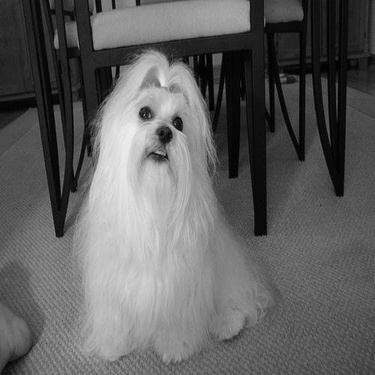dog: (68, 38, 278, 367)
